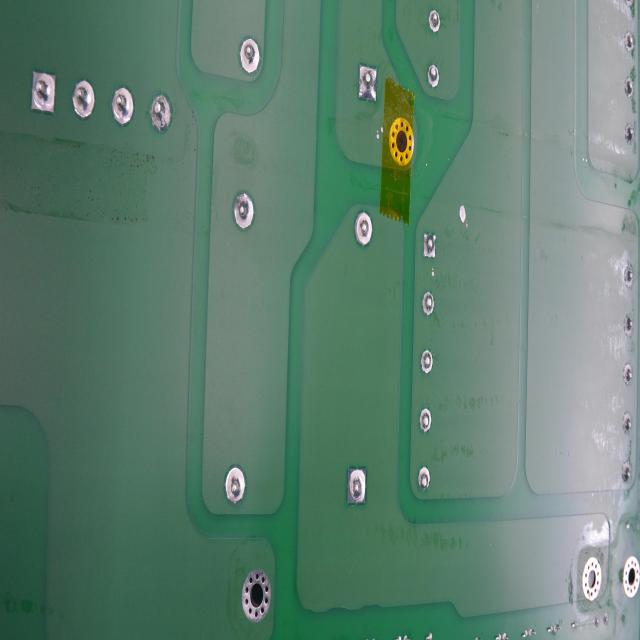spillover: (456, 198, 471, 228), (375, 124, 385, 143)
